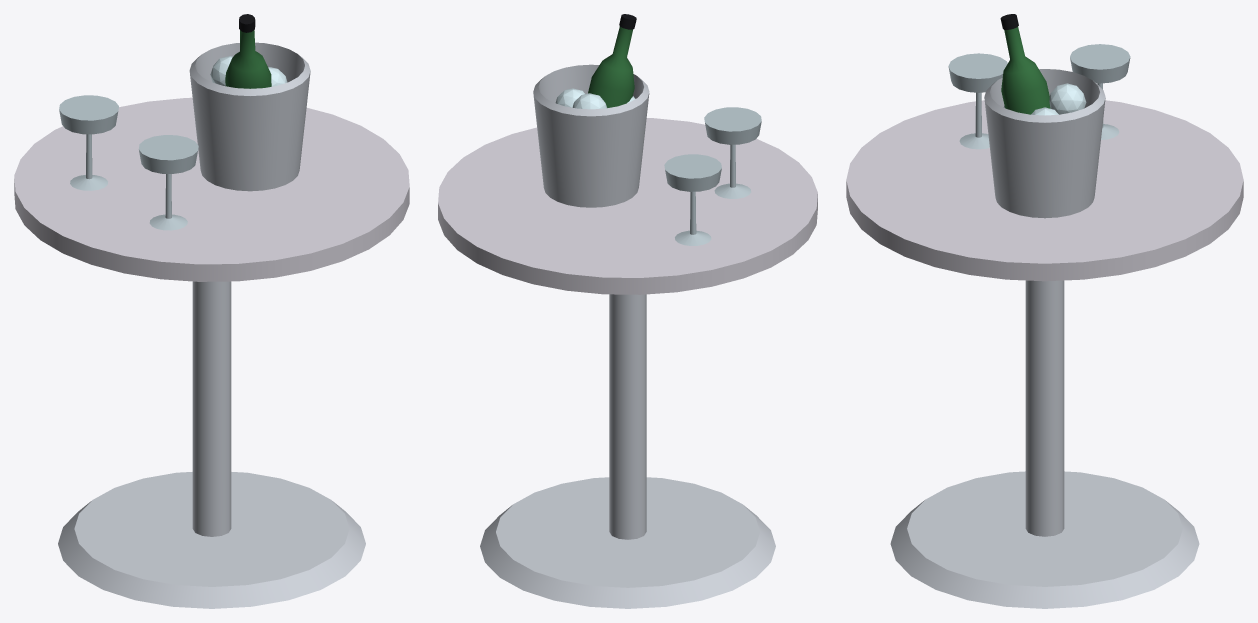
Rendered from table.glb.
The picture shows the model from 3 angles, left to right: view 1: azimuth 30°, elevation 25°; view 2: azimuth 150°, elevation 25°; view 3: azimuth 270°, elevation 25°; orthographic projection. The views are drawn at different scales.
Visible parts, largest first — view 1: marble2, chrome0, chrome4, chrome1, bottleClear12, bottleClear13, bottleGreen8; view 2: marble2, chrome0, chrome4, chrome1, bottleClear13, bottleClear12, bottleGreen8; view 3: marble2, chrome0, chrome4, chrome1, bottleGreen8, bottleClear12, bottleClear13, ice5.
Part boxes in pixels (left/top/right/bottom): marble2: left=14, top=97, right=409, bottom=281; chrome0: left=58, top=472, right=365, bottom=608; chrome4: left=189, top=42, right=310, bottom=191; chrome1: left=192, top=281, right=231, bottom=536; bottleClear12: left=138, top=135, right=198, bottom=230; bottleClear13: left=59, top=95, right=118, bottom=190; bottleGreen8: left=225, top=30, right=271, bottom=88; marble2: left=438, top=118, right=817, bottom=294; chrome0: left=480, top=477, right=775, bottom=608; chrome4: left=533, top=64, right=649, bottom=207; chrome1: left=609, top=294, right=646, bottom=539; bottleClear13: left=664, top=154, right=721, bottom=245; bottleClear12: left=704, top=107, right=761, bottom=198; bottleGreen8: left=588, top=26, right=634, bottom=107; marble2: left=846, top=100, right=1243, bottom=281; chrome0: left=890, top=471, right=1199, bottom=608; chrome4: left=984, top=69, right=1105, bottom=218; chrome1: left=1025, top=280, right=1064, bottom=536; bottleGreen8: left=1001, top=27, right=1050, bottom=114; bottleClear12: left=948, top=53, right=1007, bottom=149; bottleClear13: left=1070, top=44, right=1130, bottom=139; ice5: left=1049, top=83, right=1086, bottom=114.
Bounding box in the file's own units: 0.72 × 1.07 × 0.72.
